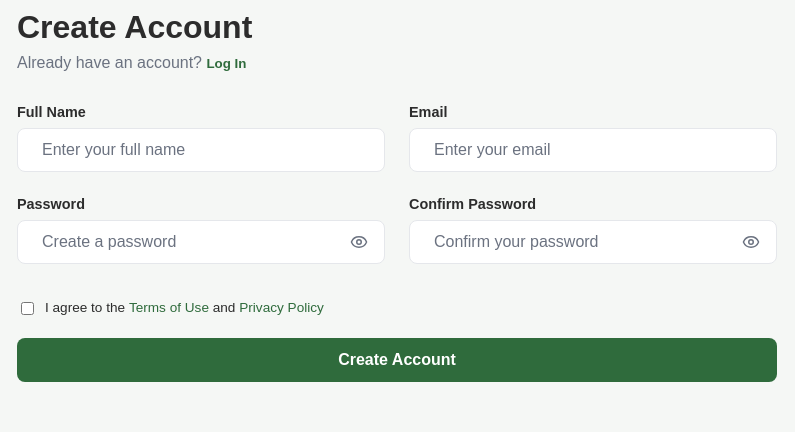
RegisterForm › shows an error when fields are empty
Click the button "Create Account" at (397, 360), box [17, 338, 777, 382]
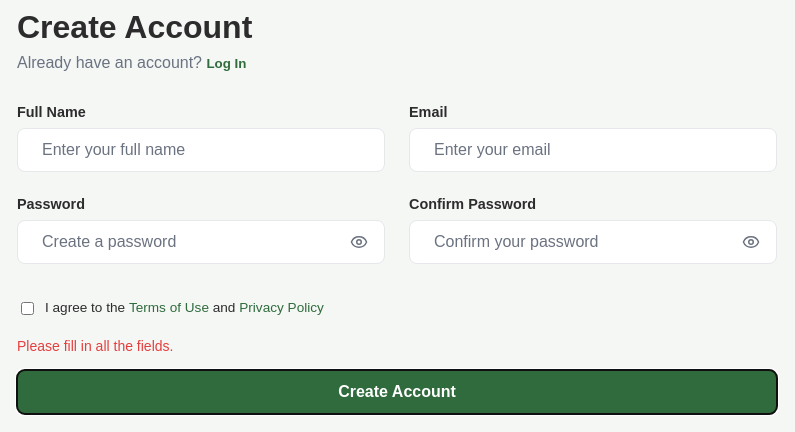
Result: the text "Please fill in all the fields." is shown at [17, 338, 173, 354]
